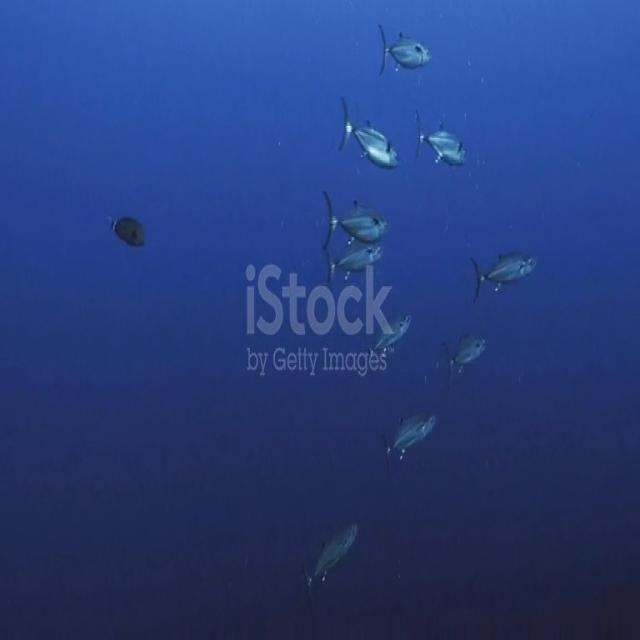fish: (304, 516, 362, 596), (466, 238, 542, 299), (338, 101, 402, 173), (320, 184, 392, 245), (375, 404, 444, 463), (416, 108, 468, 174), (378, 24, 433, 78), (443, 327, 492, 384), (323, 245, 390, 284), (360, 310, 418, 353), (109, 211, 153, 251)
